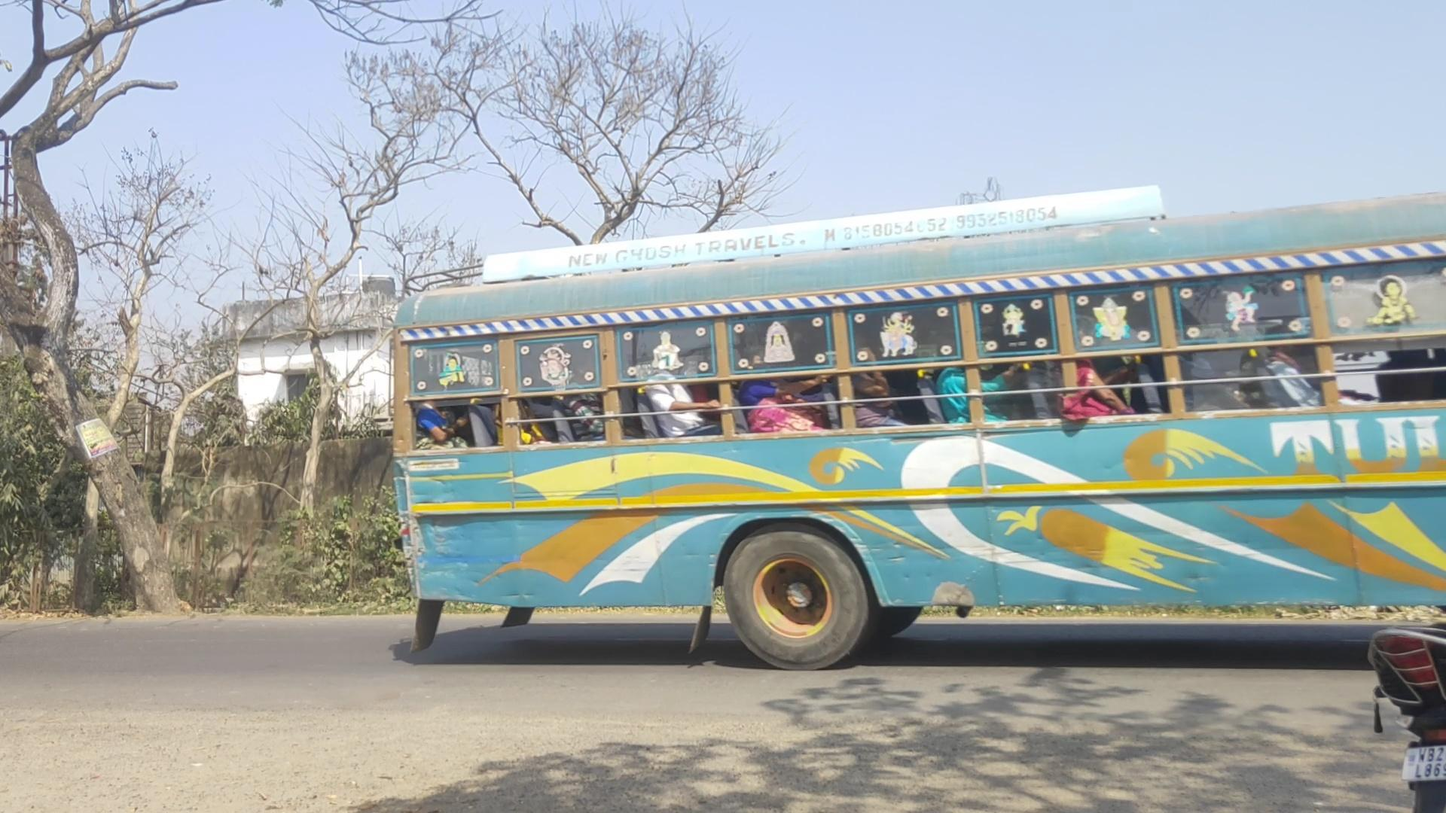Bus: (385, 184, 1446, 674)
